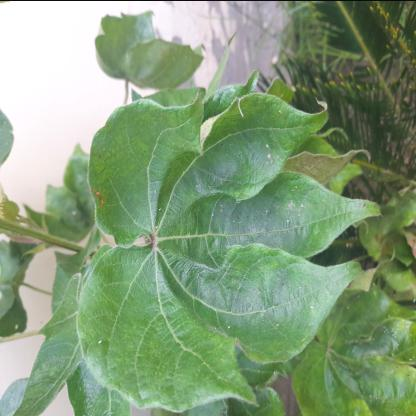curl_stage1: (355, 322, 416, 410), (179, 332, 241, 402), (106, 118, 153, 194), (90, 300, 138, 366), (306, 334, 346, 413), (273, 107, 322, 151), (240, 161, 284, 205), (232, 239, 280, 273)
curl_stage2: (108, 35, 182, 83), (1, 245, 29, 342)
healthy: (161, 202, 227, 288), (287, 272, 331, 326), (114, 246, 154, 298), (275, 191, 311, 243), (320, 191, 340, 245)
